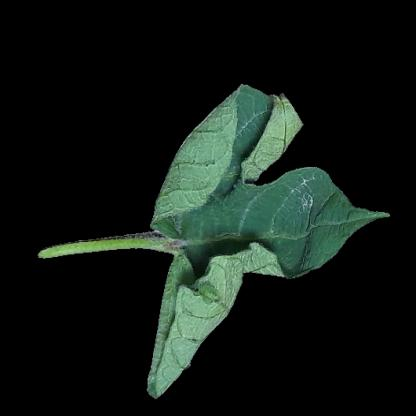curl_stage2: (188, 143, 261, 220), (215, 229, 281, 274), (228, 101, 287, 147), (175, 272, 219, 332)
